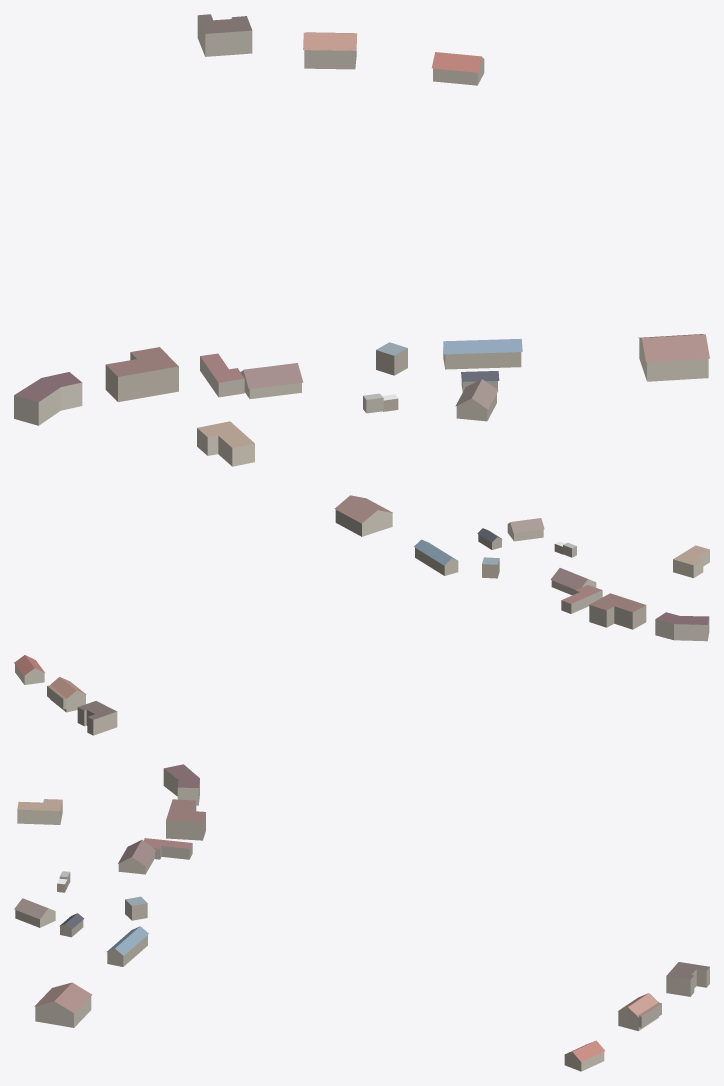
3 views of the same model, one above another, from view 1: azimuth 30°, elevation 25°; view 2: azimuth 150°, elevation 25°; view 3: azimuth 270°, elevation 25° (orthographic). The views are drawn at different scales.
Parts seen in each view (by area): view 1: tuile; view 2: tuile; view 3: tuile.
Part boxes in pixels (box(x1,y1,x2,y2)): tuile: box(14, 14, 709, 466); tuile: box(14, 495, 709, 735); tuile: box(14, 764, 709, 1071).
Bounding box in the file's own units: 235 × 17.42 × 258.
